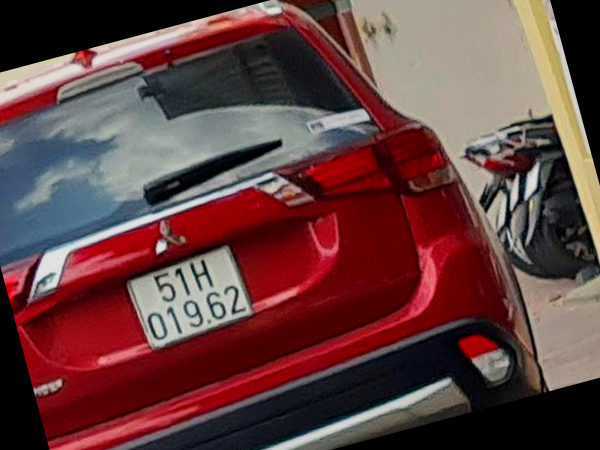lisence: (130, 245, 254, 350)
